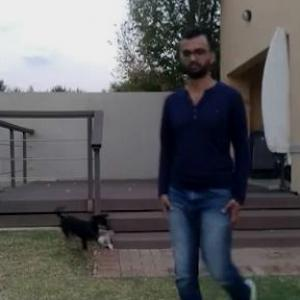follow: (139, 28, 244, 299)
